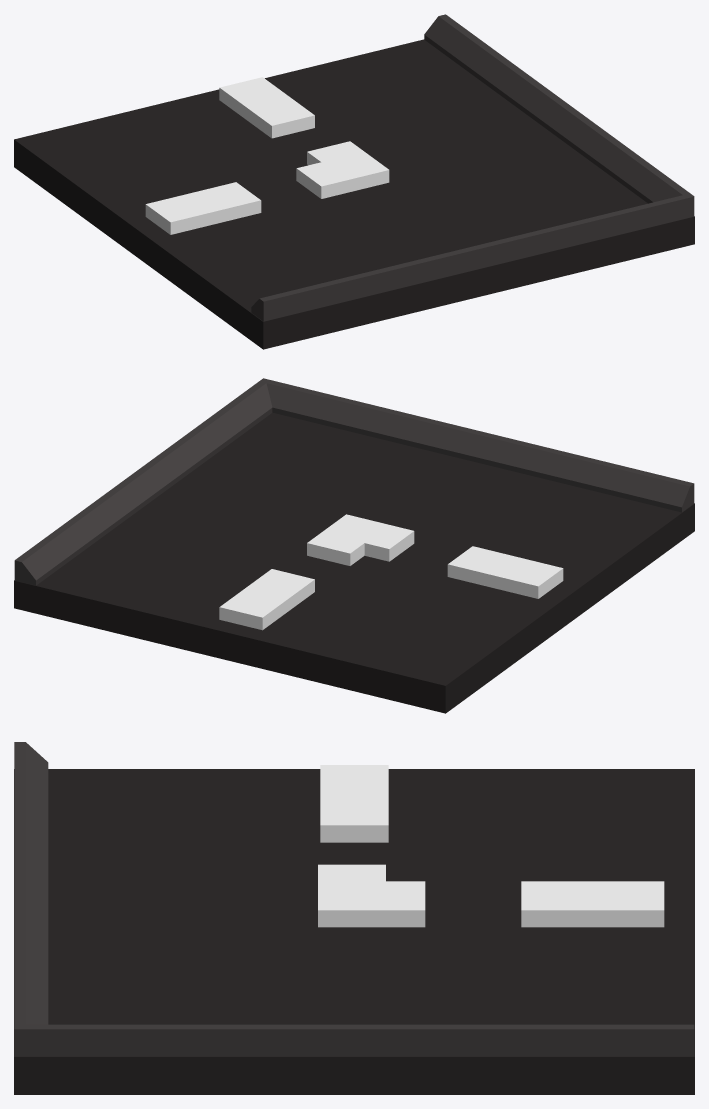
Rendered from road-2ooCOR.obj.
3 views of the same model, one above another, from view 1: azimuth 30°, elevation 25°; view 2: azimuth 150°, elevation 25°; view 3: azimuth 270°, elevation 25° (orthographic). The views are drawn at different scales.
Visible parts, largest first — view 1: Cube, Cube.006, Cube.004, Cube.001, Cube.003, Cube.005, Cube.002; view 2: Cube, Cube.006, Cube.004, Cube.001, Cube.003, Cube.002, Cube.005; view 3: Cube, Cube.004, Cube.006, Cube.003, Cube.001, Cube.002, Cube.005.
Part boxes in pixels (x1=…): Cube: x1=14, y1=39, x2=694, y2=349; Cube.006: x1=251, y1=194, x2=694, y2=321; Cube.004: x1=424, y1=14, x2=693, y2=203; Cube.001: x1=145, y1=182, x2=261, y2=234; Cube.003: x1=219, y1=77, x2=314, y2=138; Cube.005: x1=296, y1=152, x2=389, y2=198; Cube.002: x1=307, y1=141, x2=388, y2=179; Cube: x1=14, y1=412, x2=694, y2=713; Cube.006: x1=260, y1=378, x2=694, y2=512; Cube.004: x1=14, y1=379, x2=272, y2=585; Cube.001: x1=447, y1=546, x2=563, y2=598; Cube.003: x1=219, y1=569, x2=314, y2=630; Cube.002: x1=307, y1=514, x2=388, y2=565; Cube.005: x1=345, y1=514, x2=414, y2=561; Cube: x1=14, y1=769, x2=694, y2=1094; Cube.004: x1=14, y1=1024, x2=694, y2=1056; Cube.006: x1=14, y1=742, x2=48, y2=1056; Cube.003: x1=521, y1=881, x2=664, y2=927; Cube.001: x1=320, y1=765, x2=388, y2=842; Cube.002: x1=318, y1=881, x2=425, y2=927; Cube.005: x1=318, y1=864, x2=385, y2=882.
Size of the model in its own units: 1 by 0.1057 by 1.
Materials: 1 (1 with a texture image).
